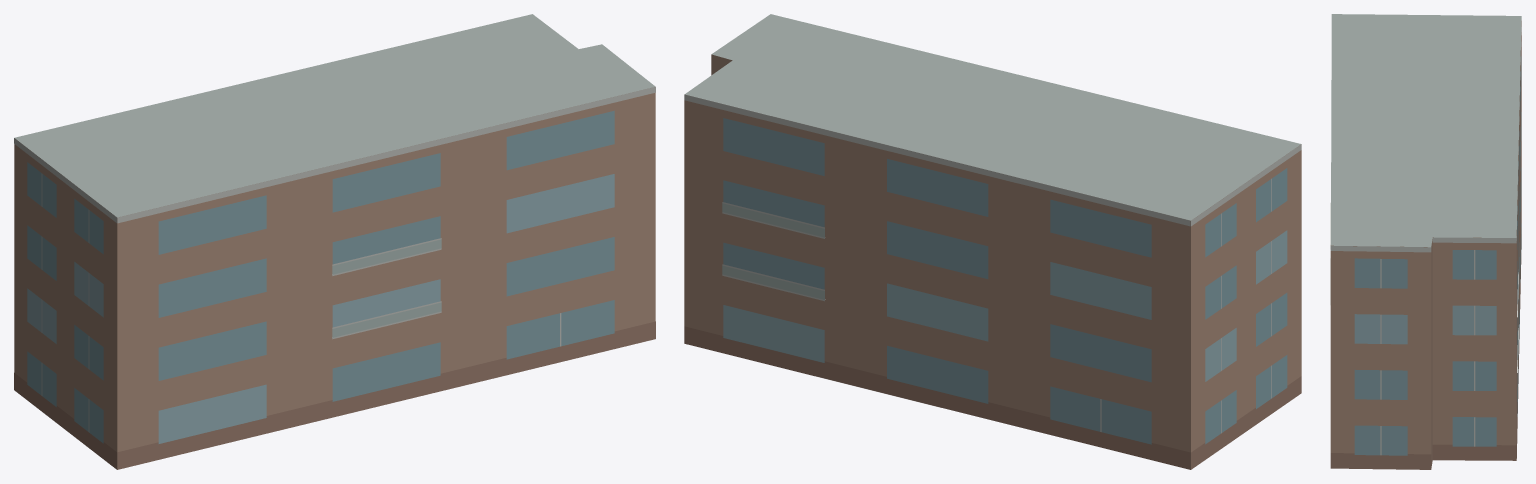
The model's file is survey-upis-32608672.glb.
The picture shows the model from 3 angles, left to right: view 1: azimuth 30°, elevation 25°; view 2: azimuth 150°, elevation 25°; view 3: azimuth 270°, elevation 25°; orthographic projection. The views are drawn at different scales.
Parts seen in each view (by area): view 1: survey-upis-32608672.tmp; view 2: survey-upis-32608672.tmp; view 3: survey-upis-32608672.tmp.
Boxes of the visible parts, x1=… form: survey-upis-32608672.tmp: x1=14, y1=14, x2=655, y2=469; survey-upis-32608672.tmp: x1=684, y1=14, x2=1301, y2=469; survey-upis-32608672.tmp: x1=1330, y1=14, x2=1521, y2=469.
Size of the model in its own units: 23.36 by 10.4 by 8.1.
